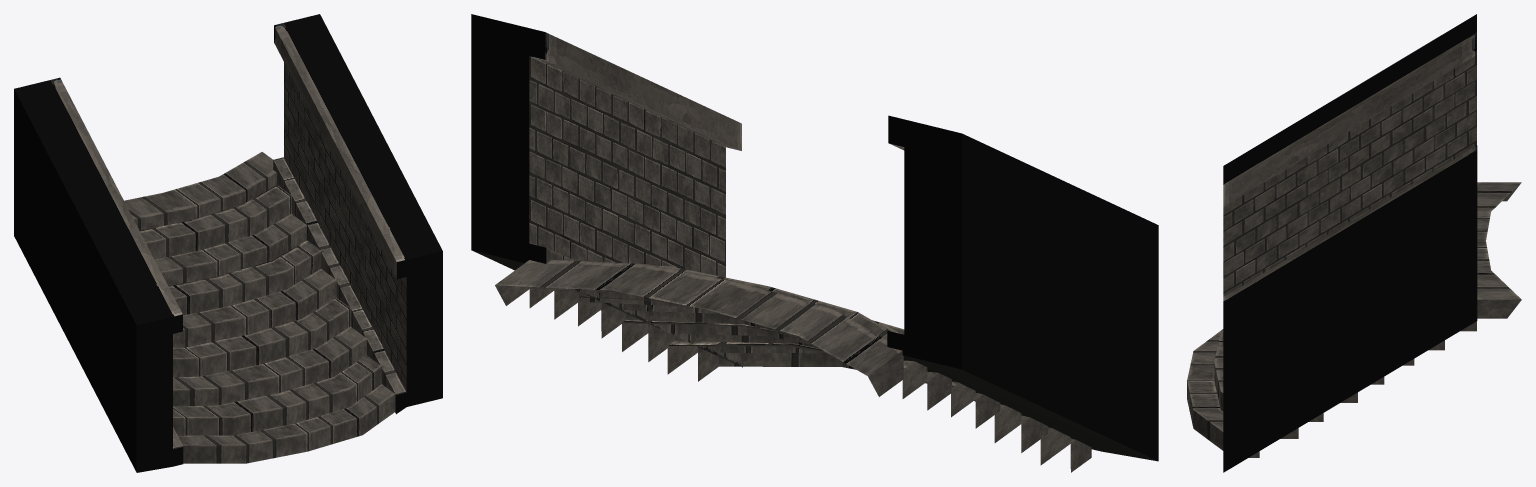
Rendered from ModularStairs01.fbx.
3 renders of one model, left to right at view 1: azimuth 30°, elevation 25°; view 2: azimuth 150°, elevation 25°; view 3: azimuth 270°, elevation 25°, orthographic. The views are drawn at different scales.
Visible parts, largest first — view 1: Cube; view 2: Cube; view 3: Cube.
Part boxes in pixels (x1,y1,x2,y2): Cube: [14, 14, 442, 472]; Cube: [471, 14, 1158, 472]; Cube: [1187, 14, 1521, 472].
Bounding box in the file's own units: 4.35 × 4.06 × 3.98.
1 material, 1 textured.
